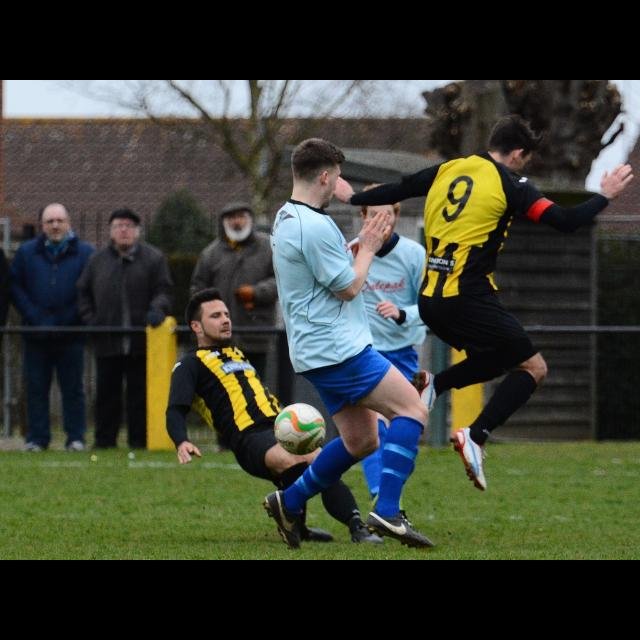Football: (274, 402, 324, 456)
